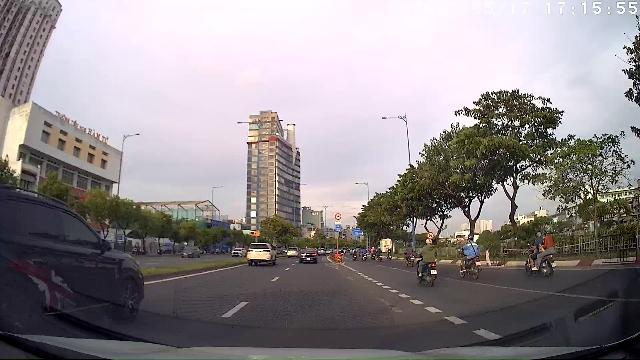103a-cam-oto: (428, 232, 434, 238)
